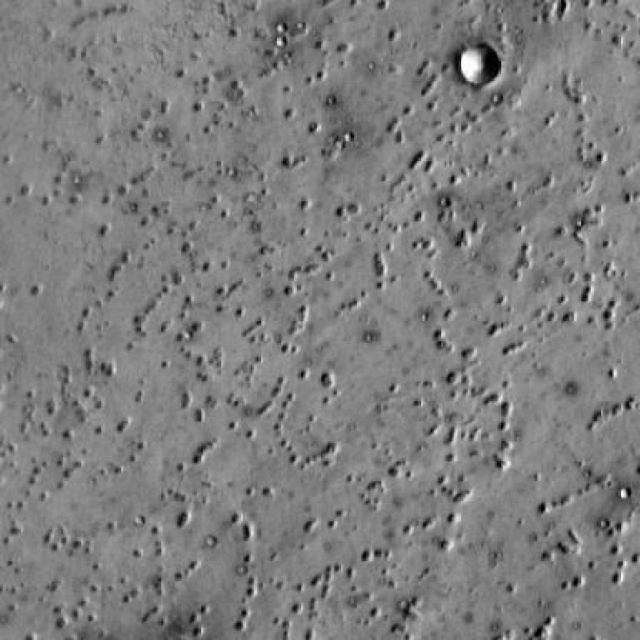crater: (457, 46, 497, 86)
